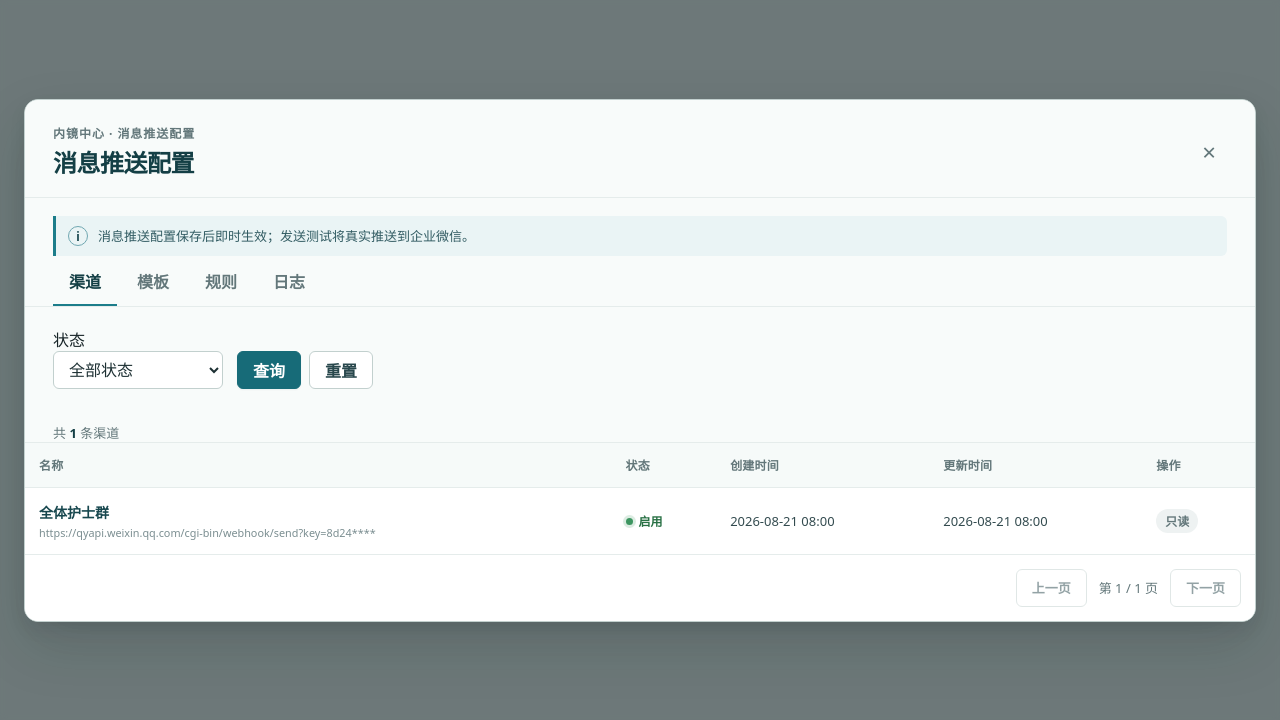
Test: NotificationModal › shows read-only lists on both tabs without any write entries
Expected: the text "全体护士群" is shown, left=39, top=502, right=109, bottom=522
Expected: the text "只读" is shown, left=1156, top=508, right=1198, bottom=532
Click the tab "模板": (153, 280) left=121, top=256, right=185, bottom=306
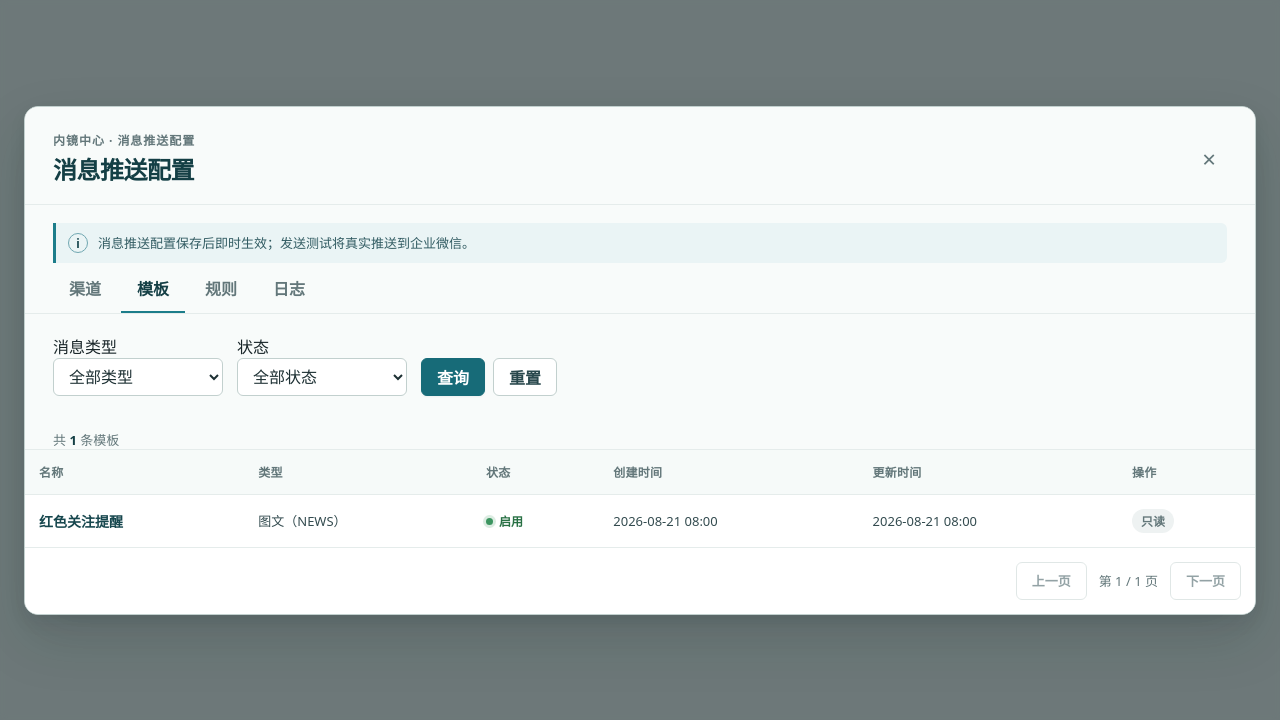
Expected: the text "只读" is shown, left=1132, top=508, right=1174, bottom=532
Expected: the text "红色关注提醒" is shown, left=39, top=512, right=123, bottom=530
